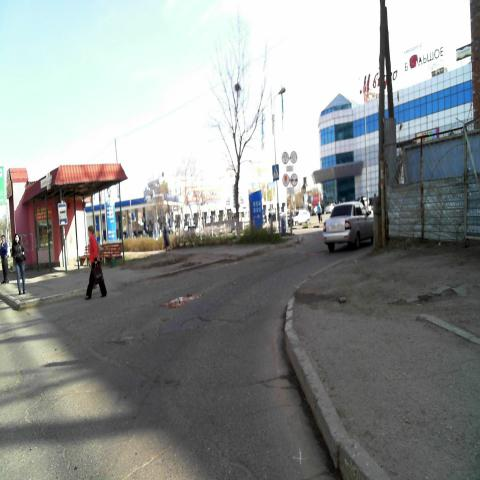3_16: (290, 170, 298, 186)
3_32: (282, 173, 290, 187)
